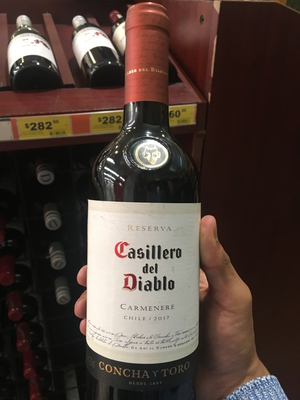casillero del diablo carmenere: (84, 10, 202, 400)
